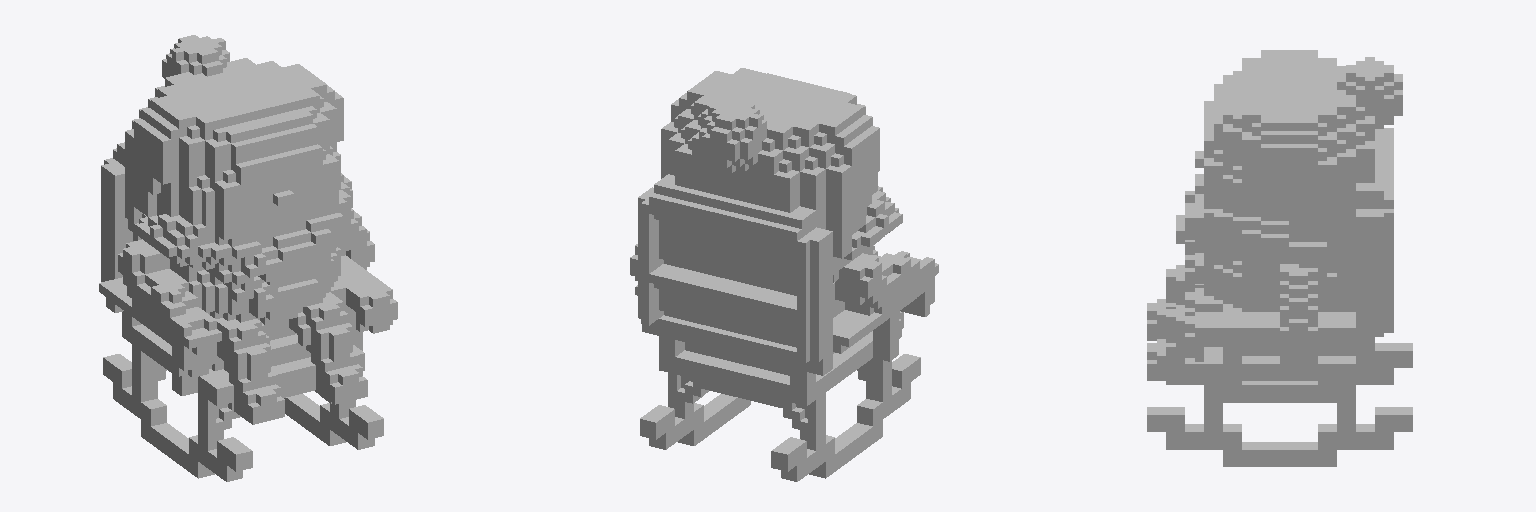
Rendered from grandma.obj.
The picture shows the model from 3 angles: view 1: azimuth 30°, elevation 25°; view 2: azimuth 150°, elevation 25°; view 3: azimuth 270°, elevation 25°; orthographic projection.
Parts seen in each view (by area): view 1: object 1; view 2: object 1; view 3: object 1.
Part boxes in pixels (x1,y1,x2,y2): object 1: (99,35,397,481); object 1: (630,68,938,481); object 1: (1147,50,1412,466).
Size of the model in its own units: 2.9 by 4.2 by 2.8.